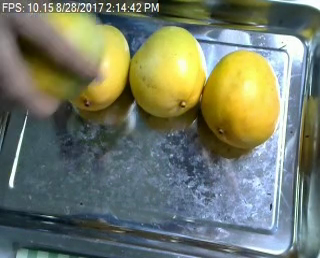Mango: (200, 50, 280, 148), (129, 24, 206, 117), (63, 23, 130, 112)
